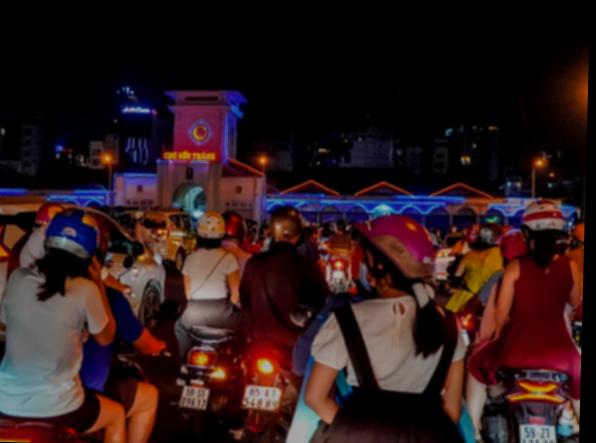Bien-so: (265, 383, 307, 411), (543, 404, 580, 432), (204, 389, 234, 412), (348, 271, 360, 280)
